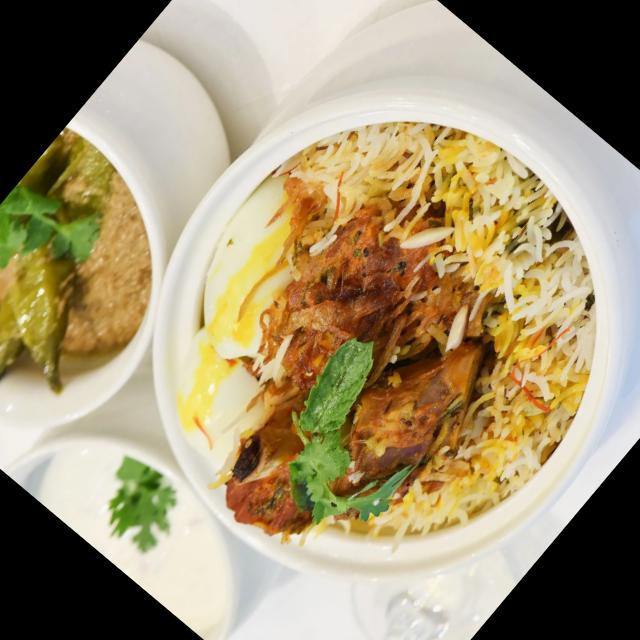Biryani: (81, 41, 640, 640)
